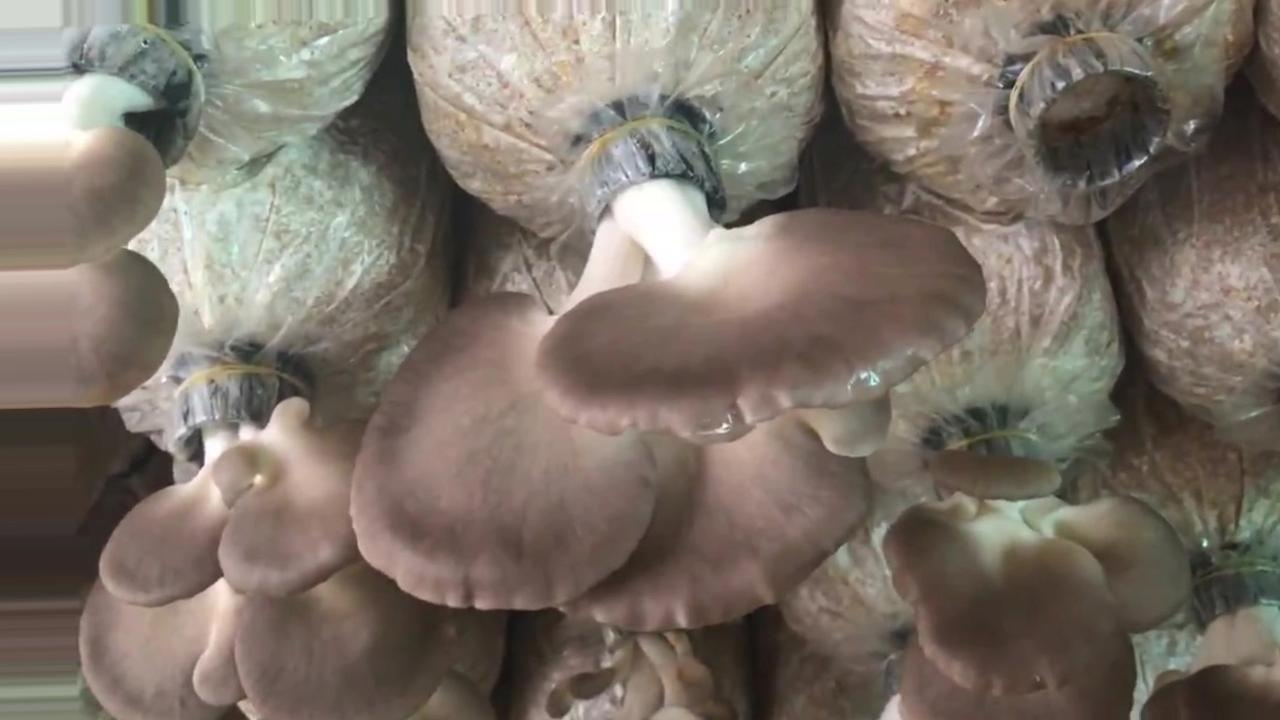nam: (350, 129, 986, 626), (76, 368, 449, 720), (887, 429, 1191, 720), (1, 26, 205, 405), (1145, 559, 1280, 716)
